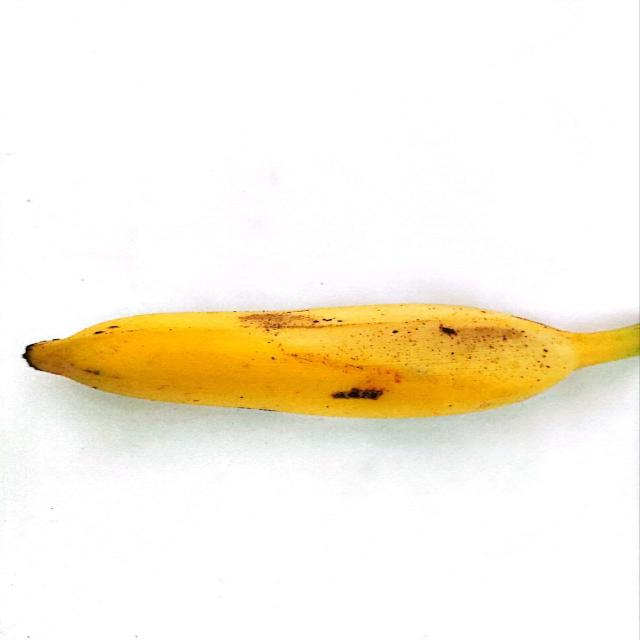fresh_banana: (26, 303, 640, 418)
